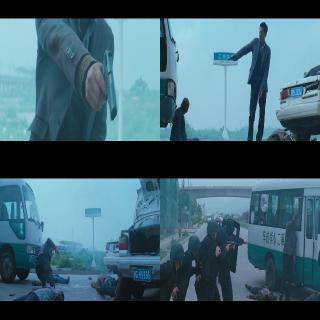gun: (85, 47, 117, 123), (218, 236, 242, 252), (227, 53, 235, 62), (54, 248, 60, 258)
